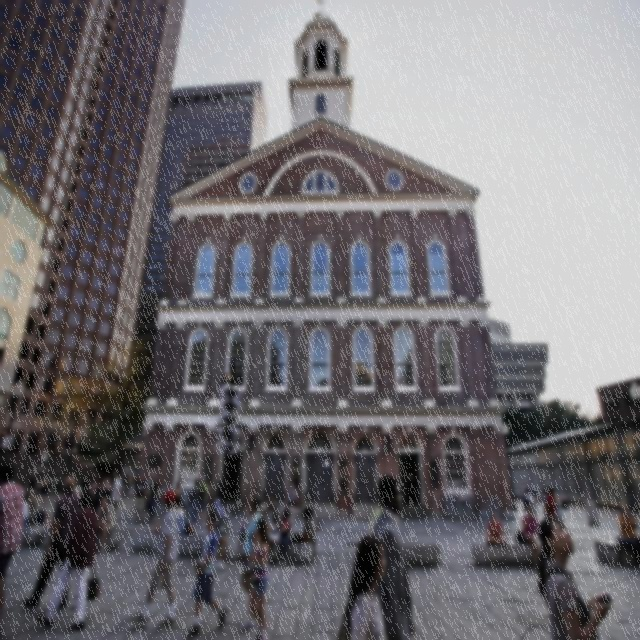pessoa: (547, 484, 639, 639), (536, 514, 612, 640), (36, 488, 101, 632), (22, 477, 80, 612), (372, 474, 416, 640), (130, 488, 180, 628), (184, 510, 228, 638), (336, 534, 388, 640), (0, 462, 25, 640), (240, 492, 266, 634), (247, 517, 271, 639), (212, 484, 232, 568), (522, 504, 542, 570), (95, 497, 116, 555), (618, 504, 640, 556), (278, 506, 291, 566), (146, 472, 160, 526), (486, 512, 508, 546), (134, 474, 146, 526), (108, 470, 122, 514), (34, 474, 50, 512), (197, 475, 208, 527), (301, 506, 316, 544), (522, 486, 540, 516), (268, 512, 279, 557), (190, 478, 200, 526), (545, 488, 560, 518), (287, 483, 297, 526), (264, 486, 278, 516), (175, 502, 187, 536), (145, 472, 154, 516), (368, 508, 382, 536), (26, 490, 37, 525), (93, 478, 103, 512), (24, 470, 38, 494), (48, 446, 77, 456), (101, 478, 112, 504), (172, 481, 182, 509), (22, 492, 30, 527), (543, 488, 550, 519), (128, 474, 136, 500), (120, 472, 128, 498), (81, 476, 92, 494), (54, 478, 65, 496), (40, 450, 48, 471), (528, 481, 537, 498), (79, 479, 89, 494), (92, 476, 100, 494), (258, 504, 267, 518), (73, 475, 78, 495), (217, 481, 224, 493), (521, 482, 526, 495), (172, 504, 176, 509), (165, 510, 167, 514)
